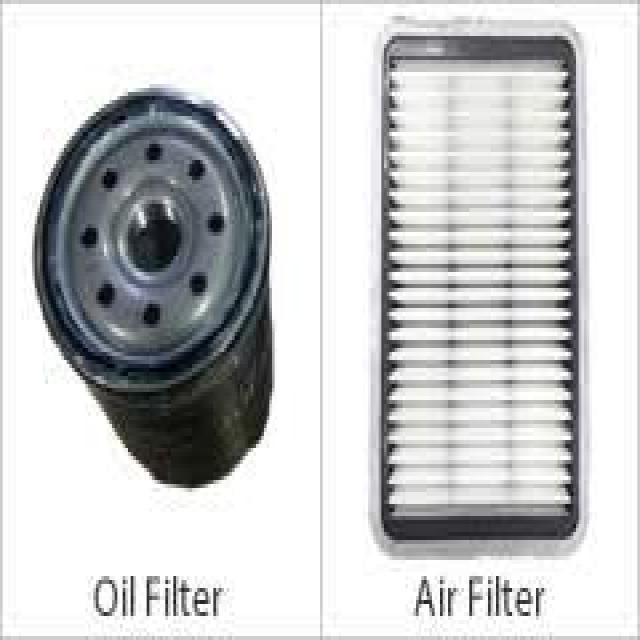air_filter: (369, 16, 590, 561)
oil_filter: (27, 78, 280, 490)
